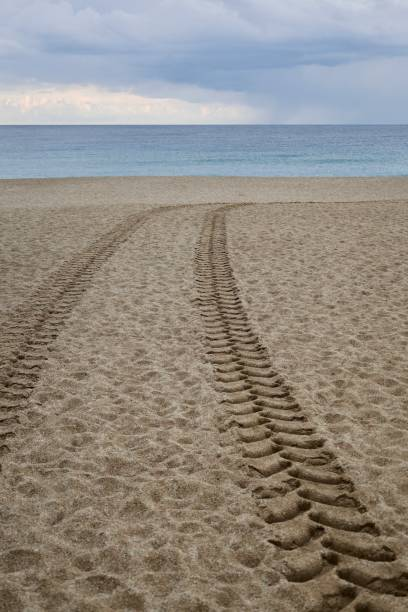vehicle_track: (195, 208, 407, 611), (0, 212, 150, 454)
